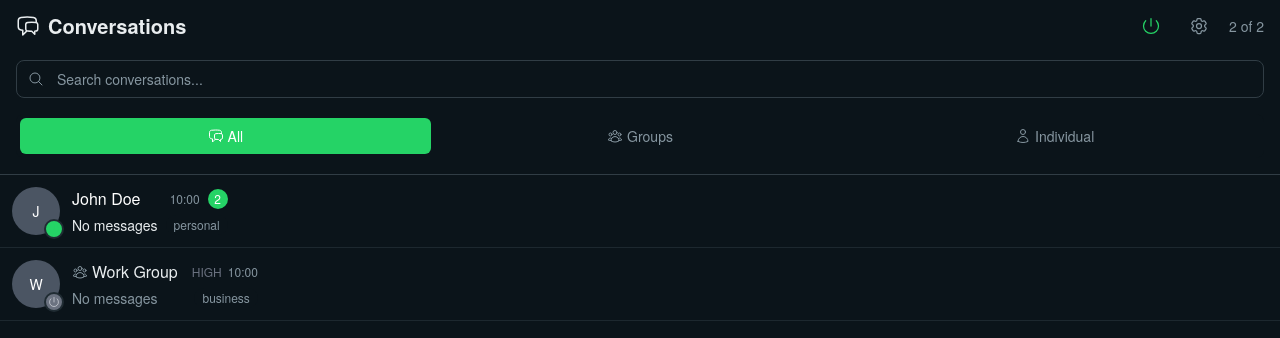
Scenario: ConversationList › Tab Filtering › shows only group conversations on "Groups" tab
What coordinates should you click on to do the following:
click the button "Groups"
I would click on:
 (640, 136)
Its box is [435,118,845,154].
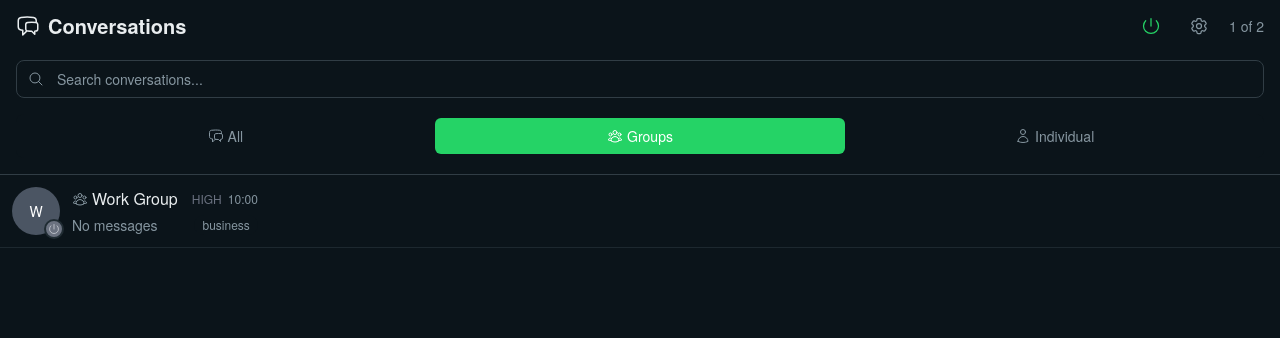
Check: the heading "Work Group" is shown, box [72,187,178,211]
Check: the heading "John Doe" is gone
